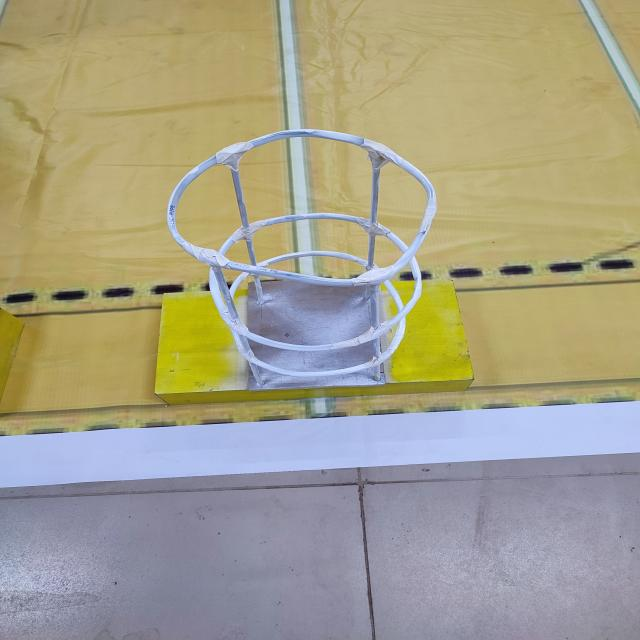silo: (152, 111, 457, 421)
